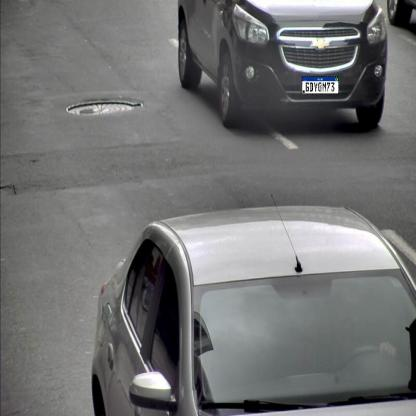PlacaM: (302, 76, 339, 94)
